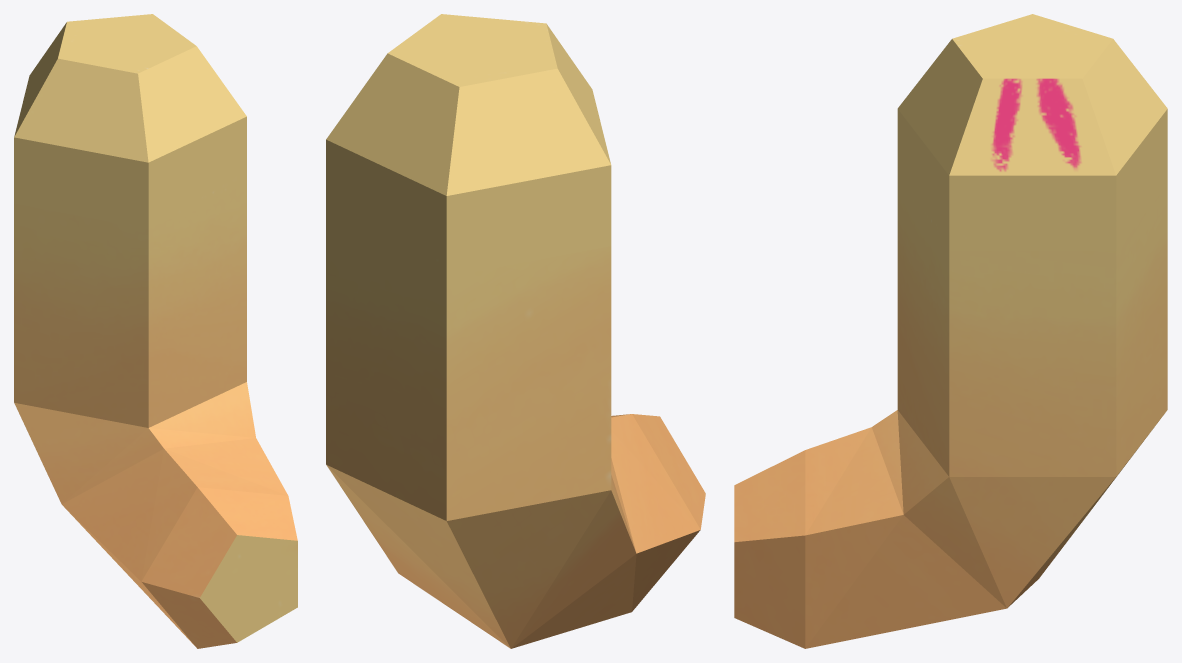
The model's file is cat_arm.obj.
3 views of the same model, side by side, from view 1: azimuth 30°, elevation 25°; view 2: azimuth 150°, elevation 25°; view 3: azimuth 270°, elevation 25° (orthographic). The views are drawn at different scales.
Visible parts, largest first — view 1: cat_arm_Cylinder.003; view 2: cat_arm_Cylinder.003; view 3: cat_arm_Cylinder.003.
Boxes of the visible parts, <box> form: cat_arm_Cylinder.003: <box>14,14,297,648</box>; cat_arm_Cylinder.003: <box>326,14,705,648</box>; cat_arm_Cylinder.003: <box>734,14,1167,648</box>.
Size of the model in its own units: 0.3476 by 0.8922 by 0.5864.
